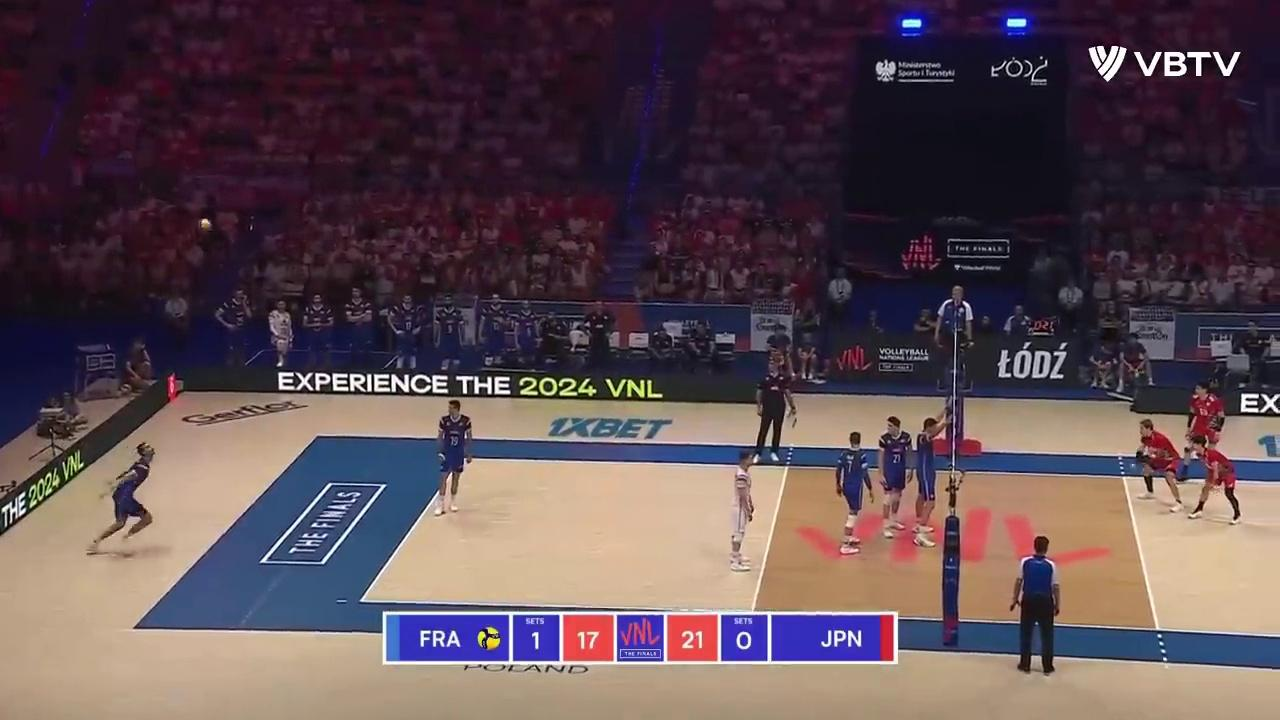ball: (199, 218, 210, 230)
